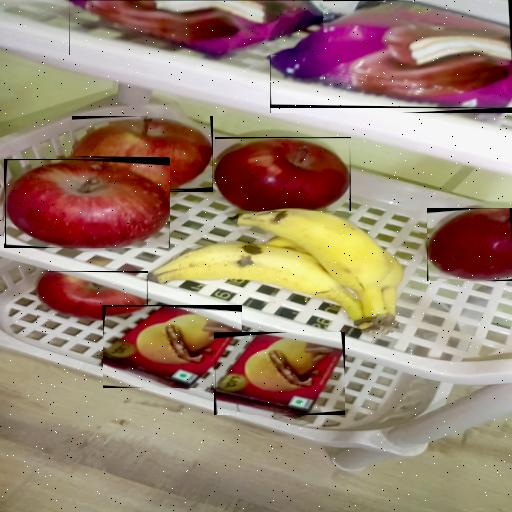Apple: (5, 160, 170, 248), (72, 116, 212, 190), (215, 138, 350, 211), (427, 208, 512, 279), (37, 271, 147, 320)
Choco Fills: (103, 306, 242, 388), (215, 334, 343, 414)
Choco Pie: (270, 1, 512, 108), (69, 0, 323, 55)
